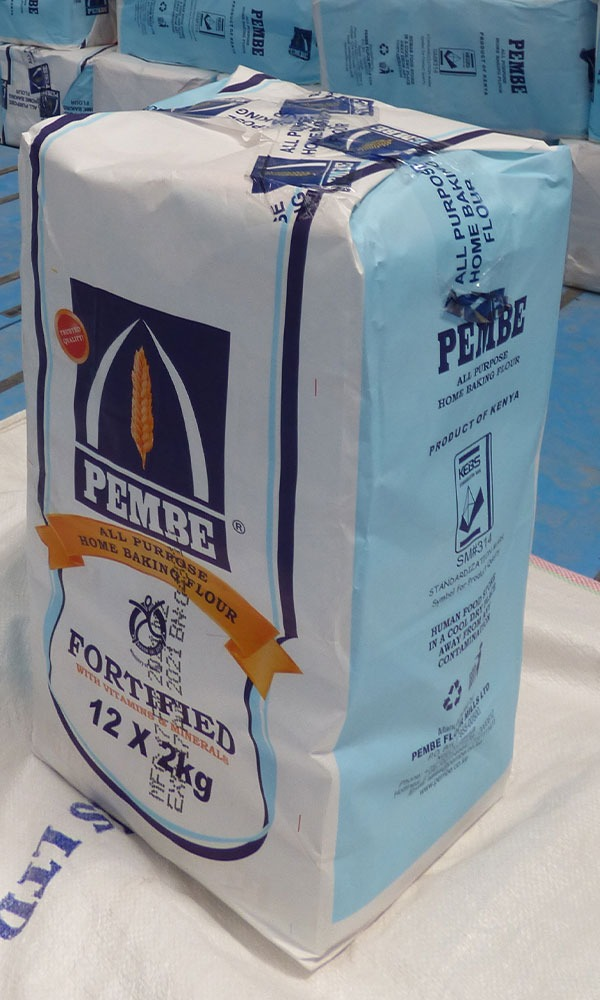wheat_flour_blue_label: (22, 71, 531, 952)
